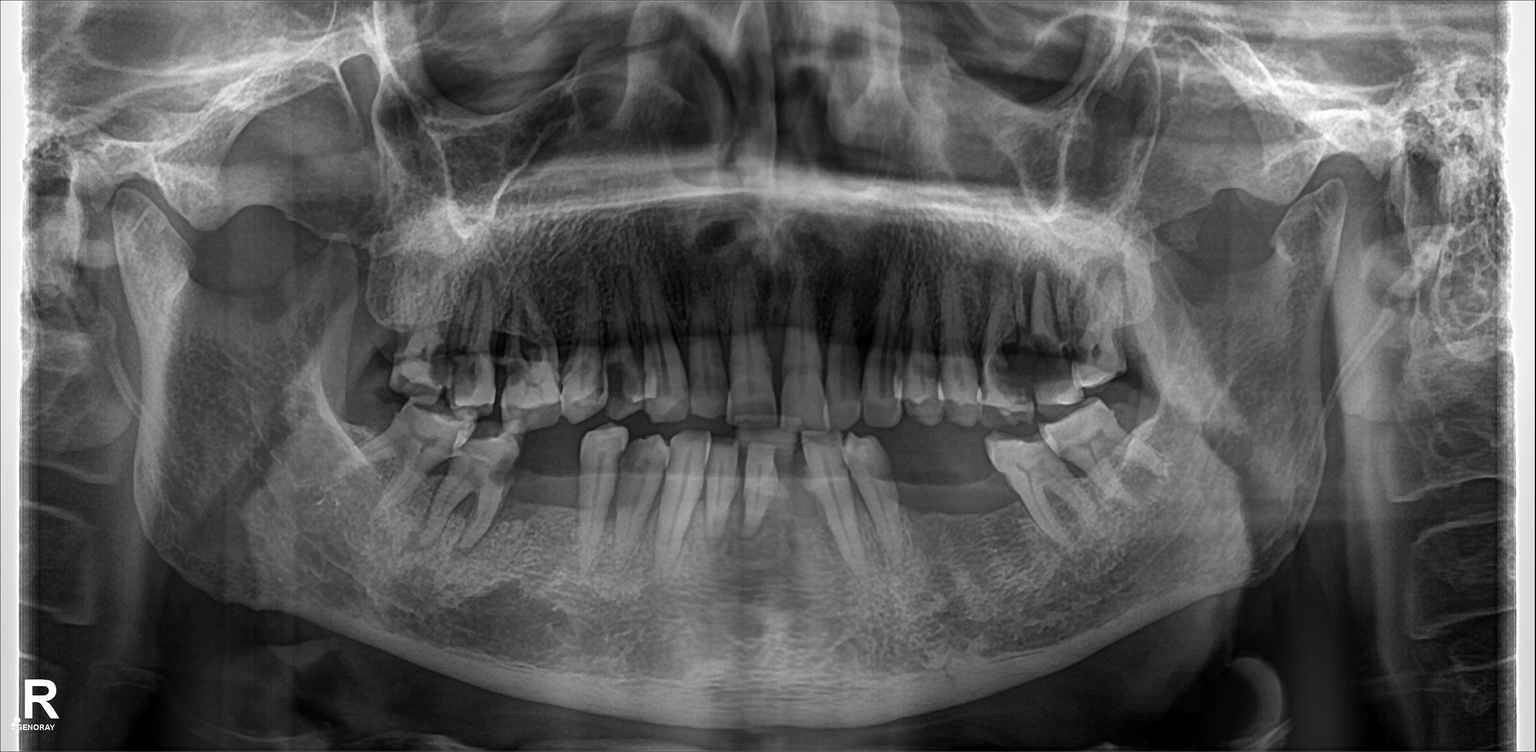Dental Caries: (991, 329, 1074, 393), (477, 346, 523, 395), (490, 326, 545, 361), (603, 357, 630, 399)
Impacted Third Molar: (1050, 406, 1170, 503)
Missing Tooth: (899, 443, 956, 578), (957, 441, 1010, 584), (521, 437, 578, 562), (361, 253, 405, 395), (767, 445, 815, 566), (335, 389, 380, 493)
